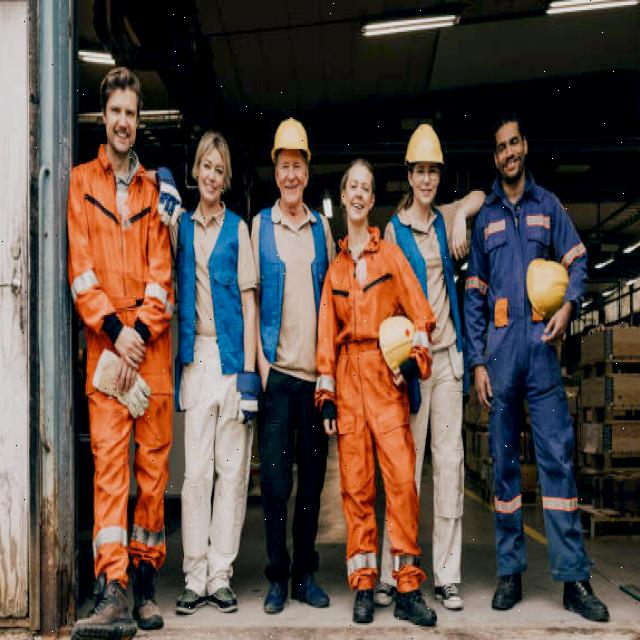Hardhat: (273, 117, 311, 161), (405, 123, 445, 164)
No Earmuff: (302, 166, 311, 188), (134, 110, 142, 132), (101, 101, 108, 125), (339, 186, 346, 206), (492, 150, 499, 169), (523, 136, 529, 157), (407, 169, 414, 187), (368, 193, 375, 210), (273, 166, 278, 188)
No Glove: (114, 326, 146, 391), (542, 302, 573, 341), (451, 205, 469, 259), (476, 366, 493, 409)
No Hardhat: (193, 131, 231, 192), (102, 67, 142, 116), (341, 157, 374, 200), (493, 111, 525, 146)
No Overall Suit: (384, 206, 486, 582), (175, 203, 261, 614), (258, 212, 335, 613)
No Safety Boots: (207, 586, 238, 613), (175, 590, 206, 615), (435, 586, 463, 609), (374, 582, 395, 607)
Overall Suit: (465, 175, 590, 582), (67, 145, 171, 585), (317, 228, 435, 590)
Safety Boots: (73, 582, 163, 640), (72, 580, 138, 640), (133, 560, 163, 629), (563, 580, 610, 622), (565, 580, 610, 622), (394, 590, 437, 626), (394, 592, 437, 626), (293, 574, 330, 608), (293, 576, 330, 608), (175, 588, 213, 616), (491, 575, 521, 610), (493, 576, 522, 609), (263, 580, 287, 613), (355, 590, 377, 624), (353, 590, 374, 623), (265, 582, 287, 613), (223, 588, 238, 611)
